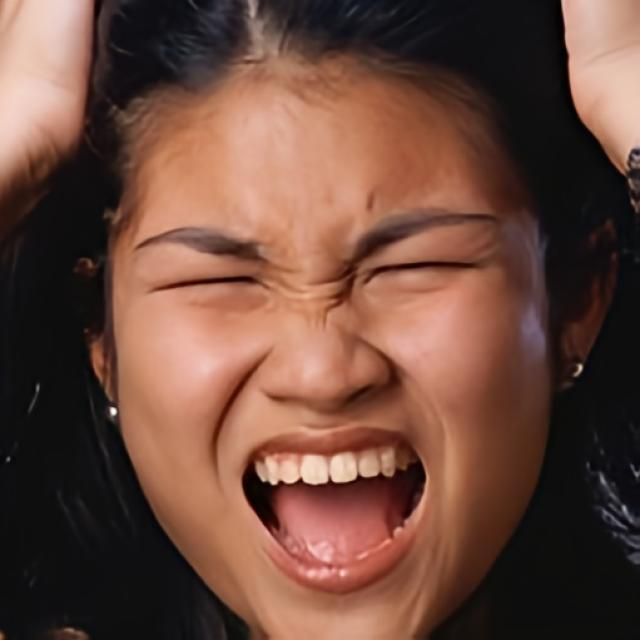anger: (113, 46, 550, 624)
